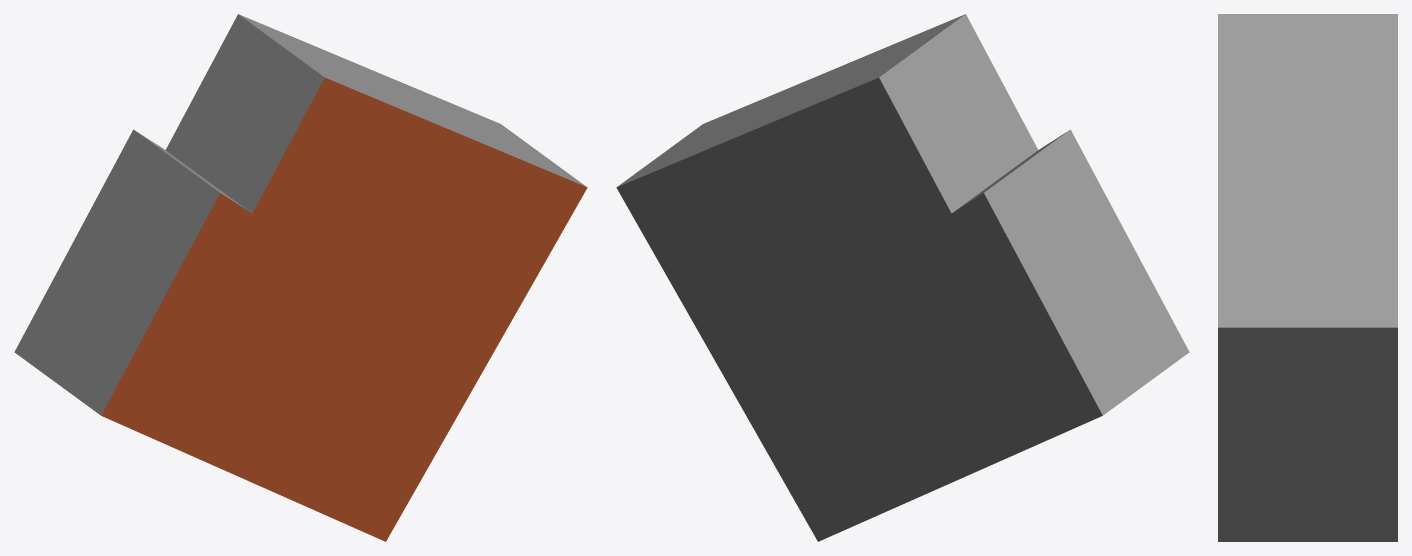
The model's file is construction_3495_assumed_A_Casa_h6m.obj.
3 views of the same model, side by side, from view 1: azimuth 30°, elevation 25°; view 2: azimuth 150°, elevation 25°; view 3: azimuth 270°, elevation 25° (orthographic). The views are drawn at different scales.
Parts seen in each view (by area): view 1: construction_3495_assumed_A_Casa; view 2: construction_3495_assumed_A_Casa; view 3: construction_3495_assumed_A_Casa.
Part boxes in pixels (<box>): construction_3495_assumed_A_Casa: <box>14,14,587,541</box>; construction_3495_assumed_A_Casa: <box>616,14,1189,541</box>; construction_3495_assumed_A_Casa: <box>1218,14,1397,541</box>.
Bounding box in the file's own units: 19.42 × 18.29 × 6.
